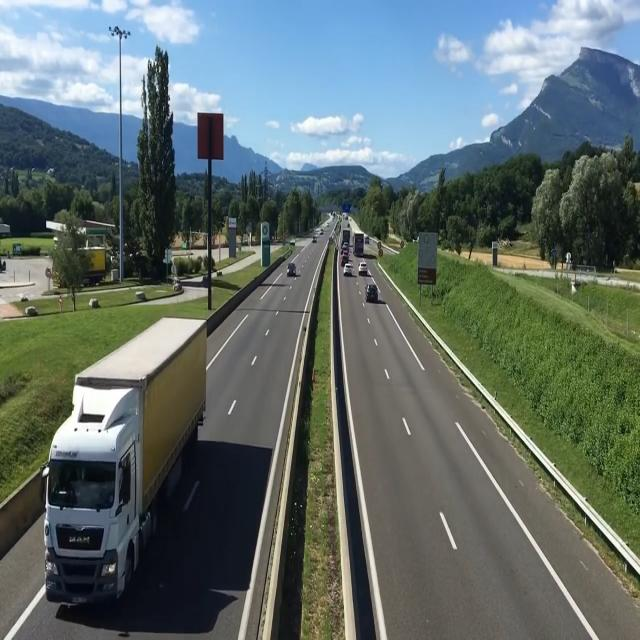car: (364, 278, 381, 308), (286, 263, 297, 278), (358, 262, 368, 276), (343, 265, 354, 276)
truck: (40, 301, 175, 607), (352, 232, 364, 258)
